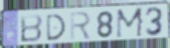3: (144, 6, 165, 38)
8: (97, 10, 115, 39)
B: (20, 14, 44, 44)
D: (46, 13, 68, 43)
M: (115, 7, 145, 40)
R: (69, 11, 92, 42)
